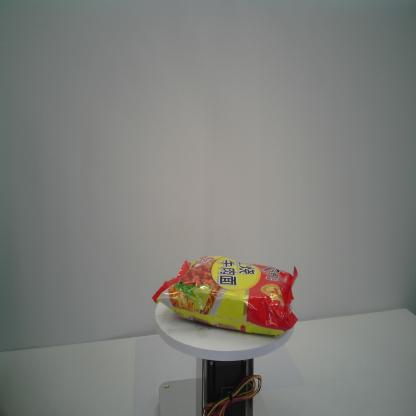Instant Noodles: (151, 254, 299, 339)
